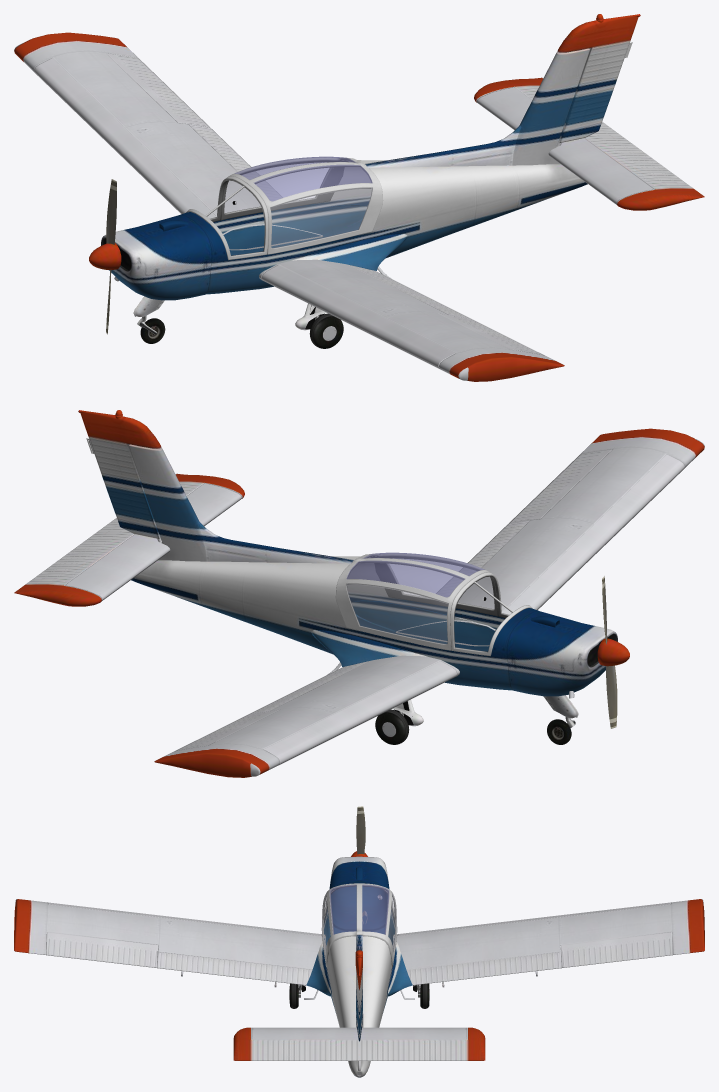
File: rallye.glb
The picture shows the model from 3 angles, top to bottom: view 1: azimuth 30°, elevation 25°; view 2: azimuth 150°, elevation 25°; view 3: azimuth 270°, elevation 25°; orthographic projection. The views are drawn at different scales.
Visible parts, largest first — view 1: fuselage, wing, canopy-plexi, vstab, right-slat, canopy-back, hstab, fuselage.011, left-slat, right-aileron, canopy-front, right-flap (+5 smaller); view 2: fuselage, wing, canopy-plexi, vstab, left-slat, canopy-back, hstab, fuselage.011, right-slat, left-aileron, canopy-front, left-flap (+5 smaller); view 3: wing, fuselage, hstab, canopy-plexi, fuselage.011, right-aileron, left-aileron, right-flap, left-flap, canopy-back, right-slat, left-slat (+2 smaller).
Part boxes in pixels (box(x1,y1,x2,y2)): fuselage: box(89, 48, 590, 330); wing: box(14, 32, 564, 381); canopy-plexi: box(224, 156, 372, 248); vstab: box(557, 14, 640, 143); right-slat: box(34, 58, 216, 218); canopy-back: box(221, 157, 383, 254); hstab: box(474, 77, 704, 210); fuselage.011: box(476, 87, 654, 204); left-slat: box(261, 265, 455, 368); right-aileron: box(106, 53, 209, 127); canopy-front: box(186, 176, 268, 260); right-flap: box(189, 124, 282, 200); fuselage: box(128, 444, 629, 726); wing: box(154, 428, 704, 777); canopy-plexi: box(346, 552, 494, 644); vstab: box(78, 410, 161, 539); left-slat: box(502, 454, 684, 614); canopy-back: box(335, 553, 497, 650); hstab: box(14, 473, 244, 606); fuselage.011: box(64, 483, 242, 600); right-slat: box(263, 661, 457, 764); left-aileron: box(509, 449, 612, 523); canopy-front: box(450, 572, 532, 656); left-flap: box(436, 520, 529, 597); wing: box(14, 899, 704, 987); fuselage: box(298, 851, 420, 1077); hstab: box(233, 1027, 485, 1060); canopy-plexi: box(322, 884, 396, 955); fuselage.011: box(251, 1027, 467, 1039); right-aileron: box(560, 932, 672, 967); left-aileron: box(46, 932, 158, 967); right-flap: box(406, 951, 561, 985); left-flap: box(157, 951, 312, 985); canopy-back: box(321, 883, 397, 967); right-slat: box(397, 902, 671, 935); left-slat: box(47, 902, 321, 935).
Bounding box in the file's own units: 6.93 × 2.71 × 9.74.
9 materials, 4 textured.
